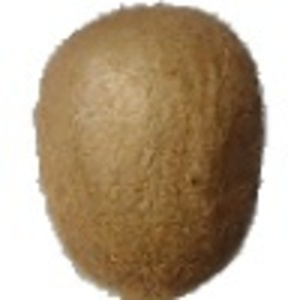kiwi: (32, 1, 267, 300)
